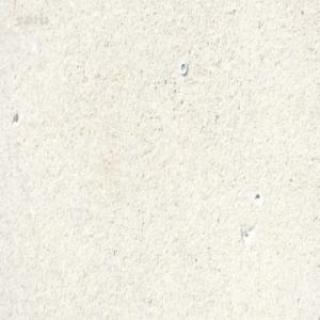Washertrack_idkeyframe: (178, 59, 186, 74)
